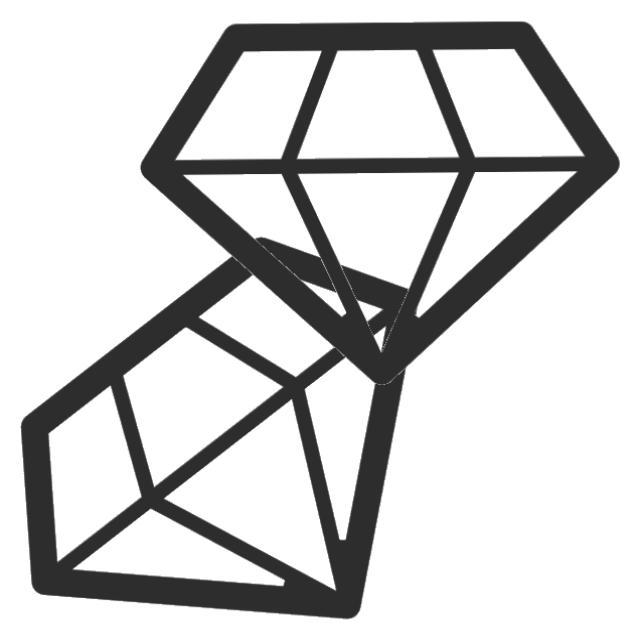diamond: (130, 16, 630, 394), (12, 241, 428, 625)
